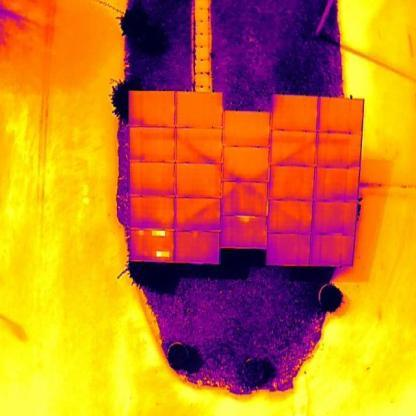anomaly: (152, 249, 171, 259), (149, 229, 169, 238)
